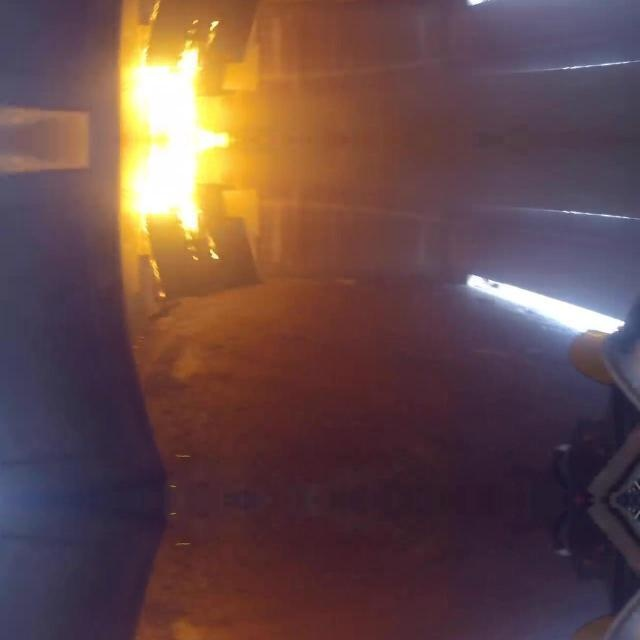fire: (93, 14, 252, 251)
